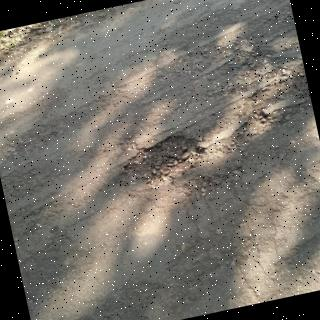pothole: (100, 40, 312, 187)
